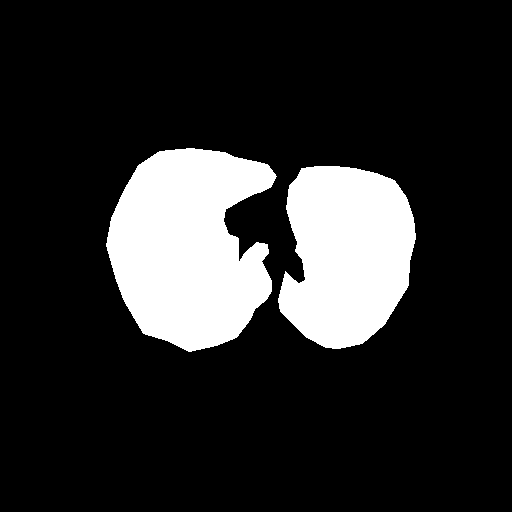Lungs: (107, 150, 425, 350)
